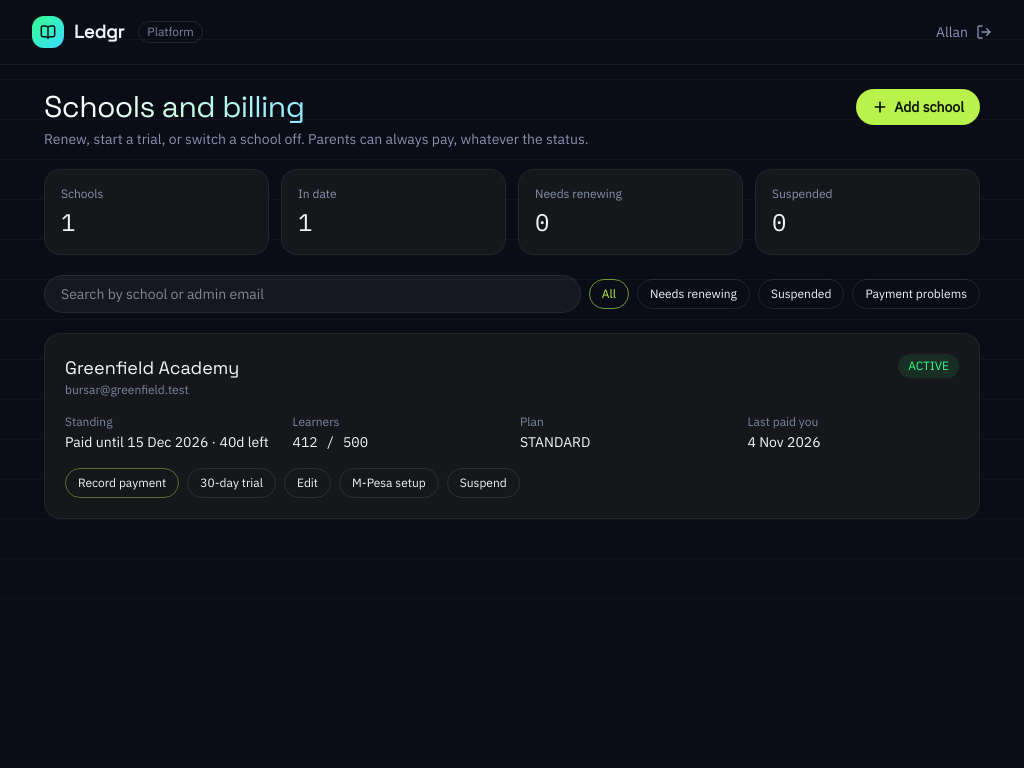
Scenario: recording what a school paid › lists the book with a total, and voiding asks why and keeps the row struck through
Check: the heading "Greenfield Academy" is shown, box [65,354,239,382]
Click the button "Record payment". click: x=122, y=483
box: [65,468,179,498]
(page scrolled)
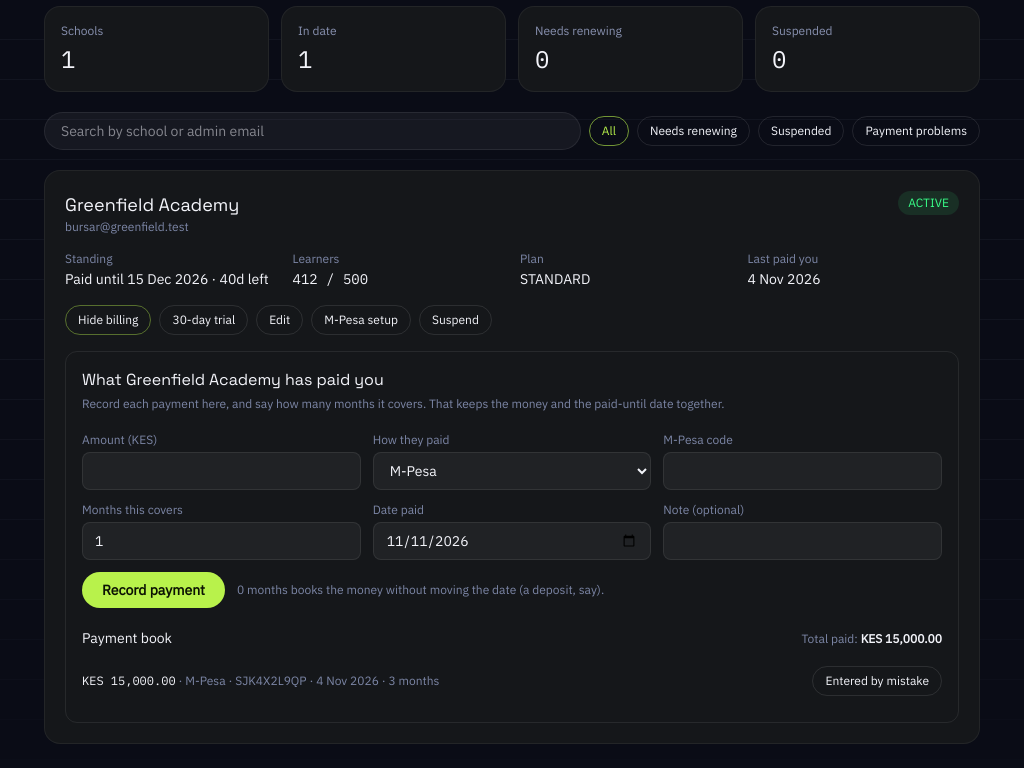
Check: the text "SJK4X2L9QP" is shown, box [235,673,307,688]
Check: the text "Total paid: KES 15,000.00" is shown, box [802,631,942,647]
Click the button "Entered by mistake". click: x=877, y=681
box: [812,666,942,696]
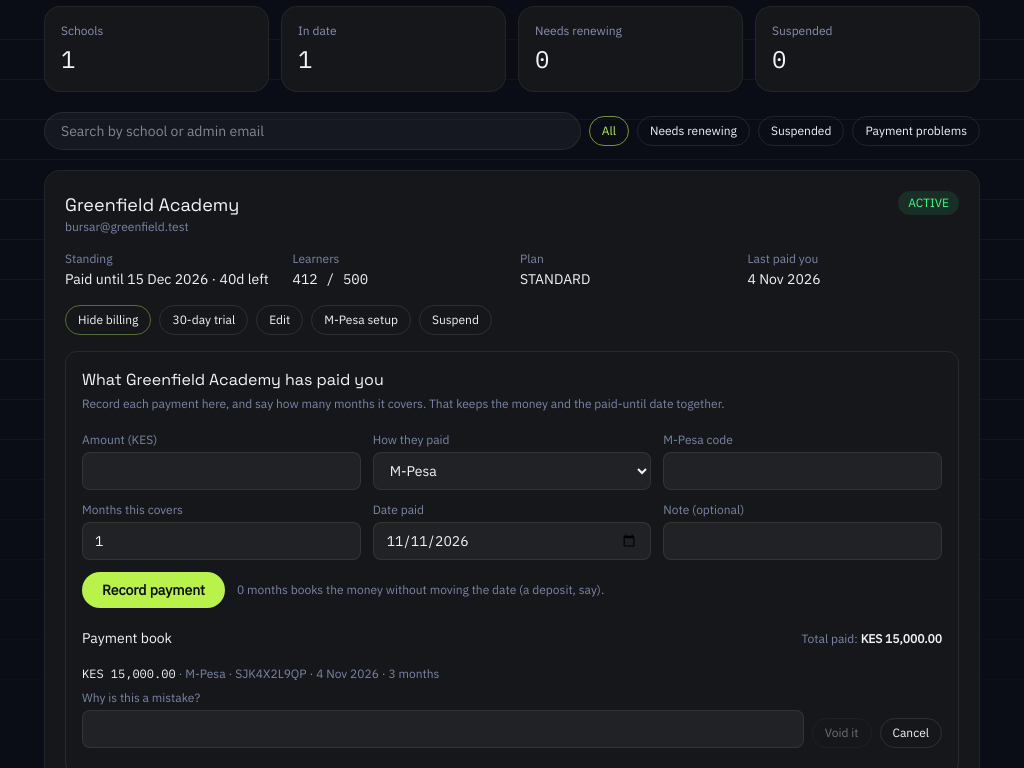
Check: the button "Void it" is disabled, box [812,718,872,748]
Type "entered twice" into the field labelled "Why is this a mistake?". click: x=443, y=729
box: [82,710,804,748]
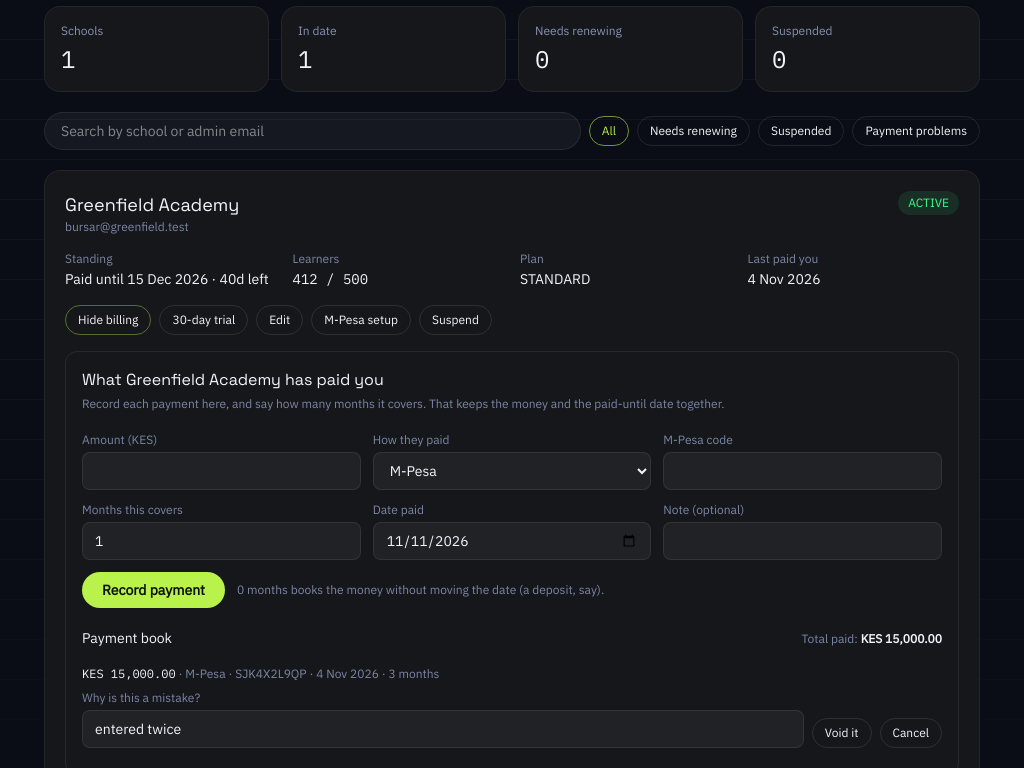
Click the button "Void it". click: x=842, y=733
box: [812,718,872,748]
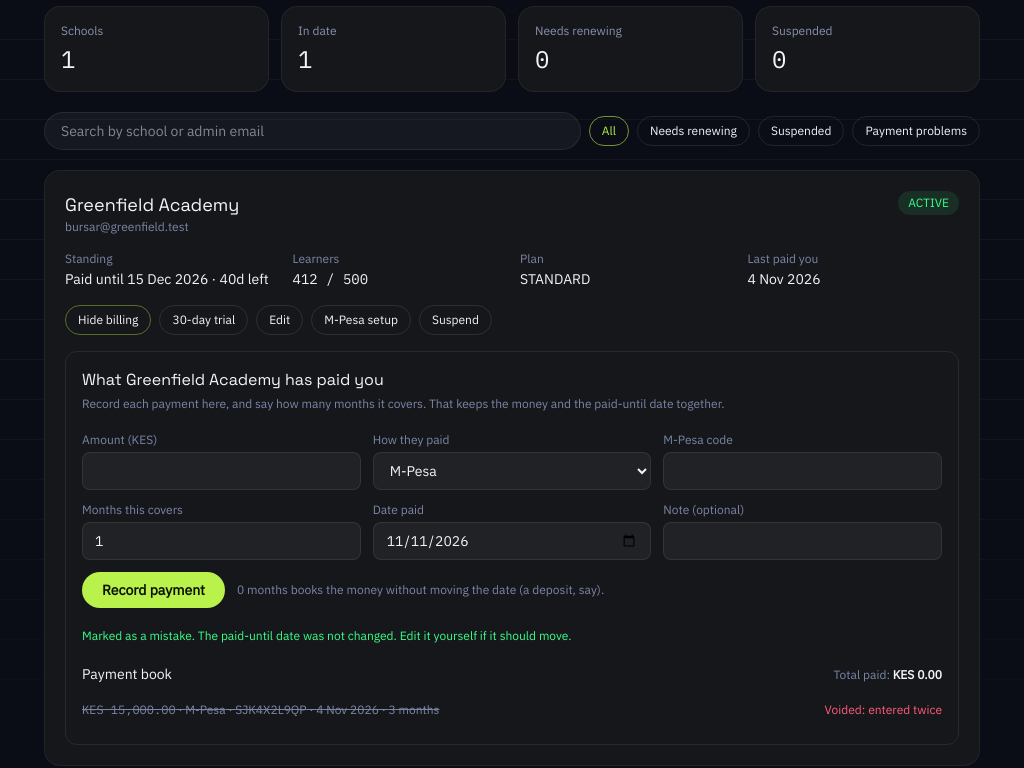
Check: the text "Voided: entered twice" is shown, box [825,702,942,718]
Check: the message shows "paid-until date was not changed", box [82,628,571,643]
